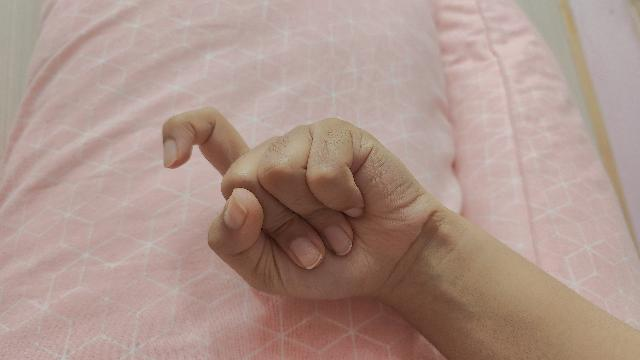tamrachud: (163, 107, 640, 360)
